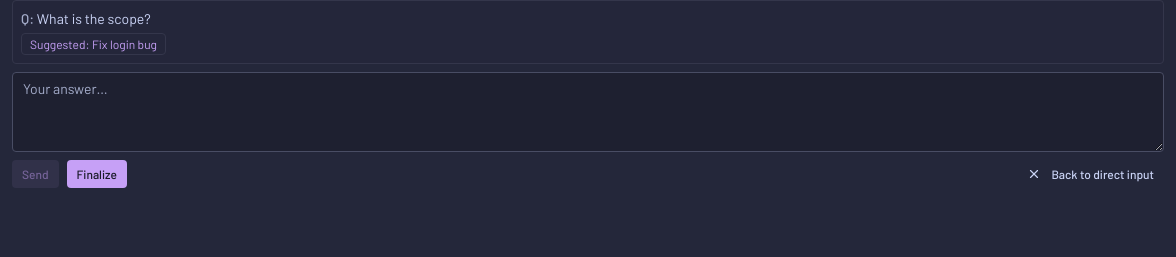
Scenario: ComposerAssistPanel › shows session expired message when not found recovery fails
Expected: the text "Q: What is the scope?" is shown, x1=21 y1=10 x2=151 y2=27
Type "my answer" into the text box with placeholder "Your answer…".
click(588, 112); type("my answer")  # box x1=12 y1=72 x2=1164 y2=152
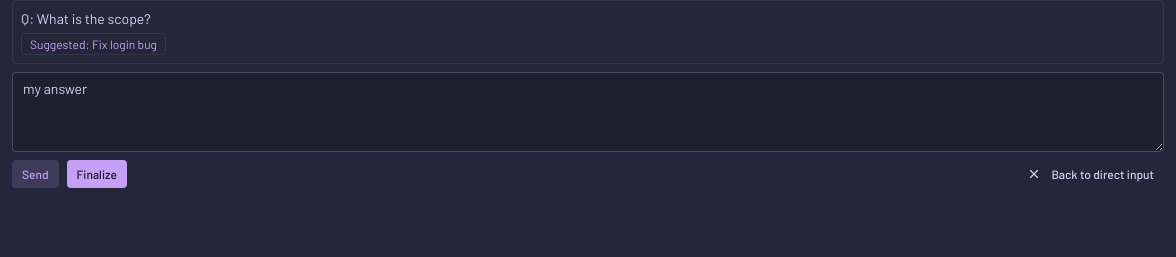
Click the button "Send".
click(35, 174)  # box x1=12 y1=160 x2=59 y2=188
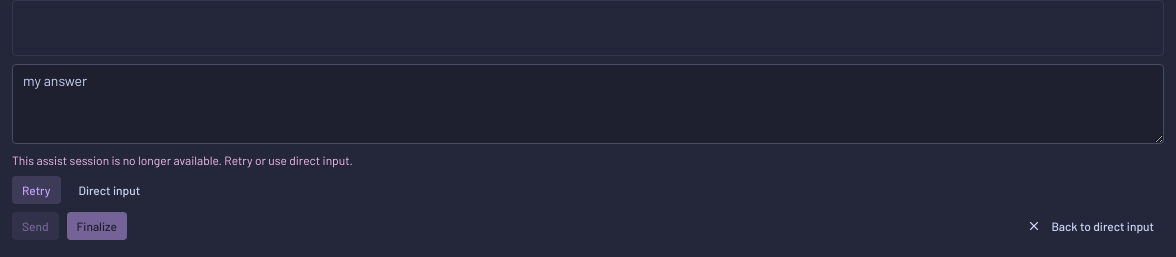
Expected: the text "This assist session is no longer available" is shown, x1=12 y1=153 x2=353 y2=167
Expected: the button "Retry" is shown, x1=12 y1=176 x2=60 y2=204
